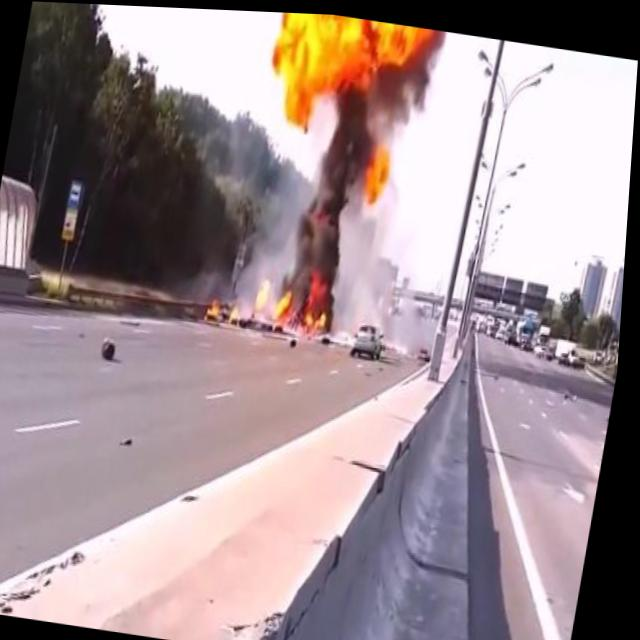fire: (244, 9, 442, 214), (252, 262, 341, 339), (204, 293, 249, 325)
